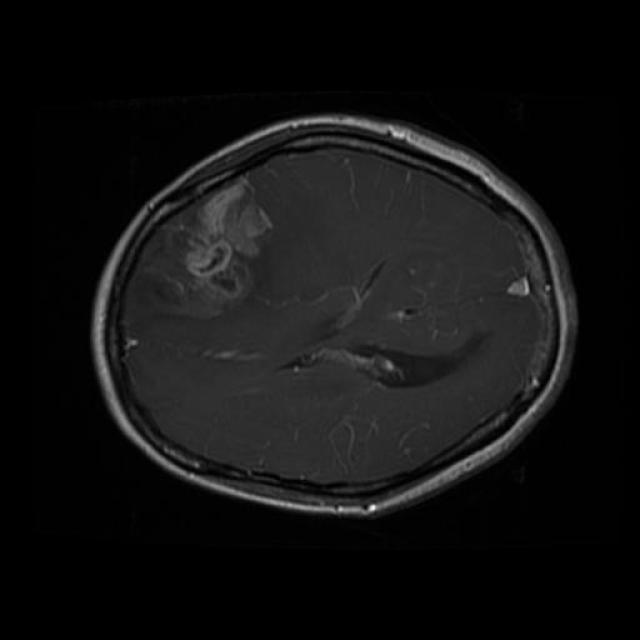Glioma: (144, 176, 272, 316)
